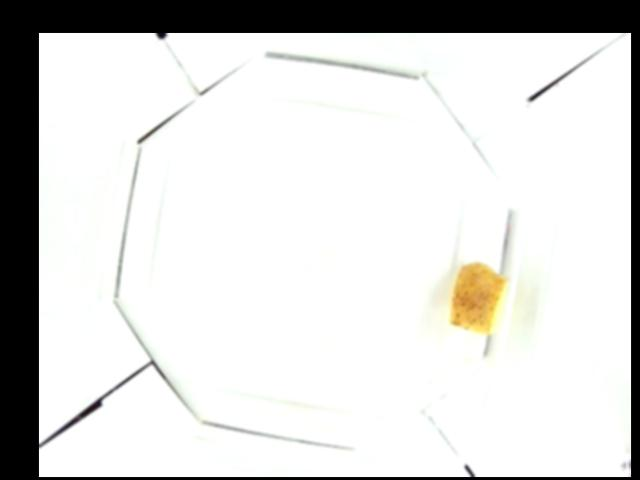Potato: (447, 261, 505, 334)
